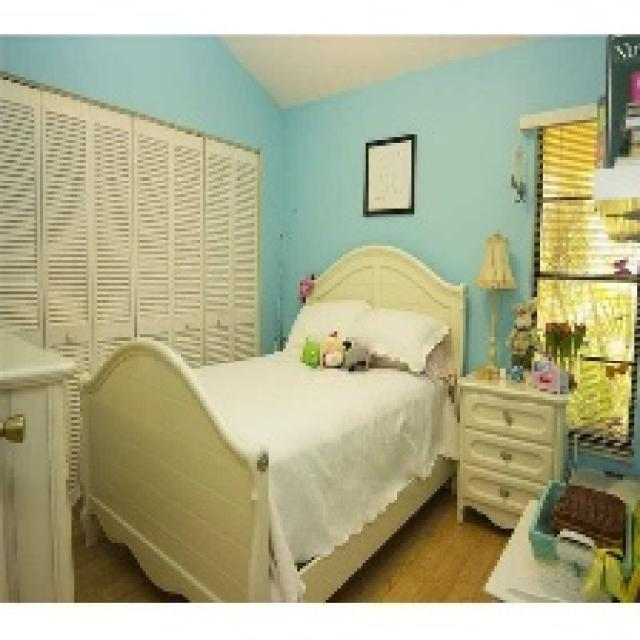Bed: (77, 243, 466, 600)
